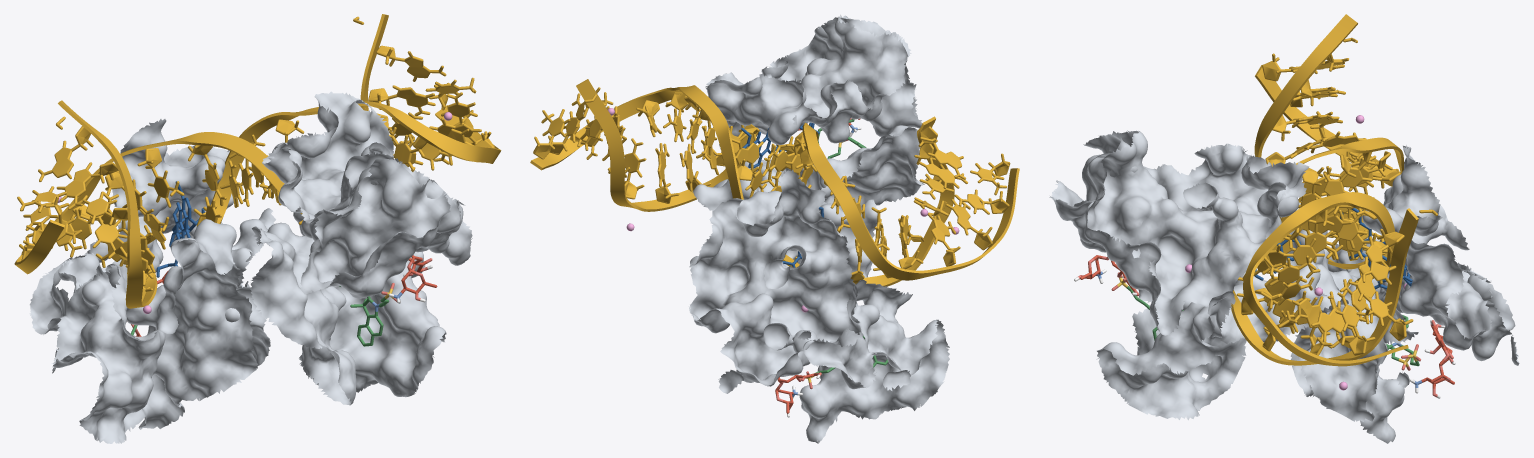
File: rigid_pair.glb
3 renders of one model, left to right at view 1: azimuth 30°, elevation 25°; view 2: azimuth 150°, elevation 25°; view 3: azimuth 270°, elevation 25°, orthographic. The views are drawn at different scales.
Visible parts, largest first — view 1: rigid_pair; view 2: rigid_pair; view 3: rigid_pair.
Part boxes in pixels (x1,y1,x2,y2): rigid_pair: (14, 14, 501, 443); rigid_pair: (530, 14, 1019, 443); rigid_pair: (1049, 14, 1519, 443).
Bounding box in the file's own units: 0.3012 × 0.2203 × 0.2534.
